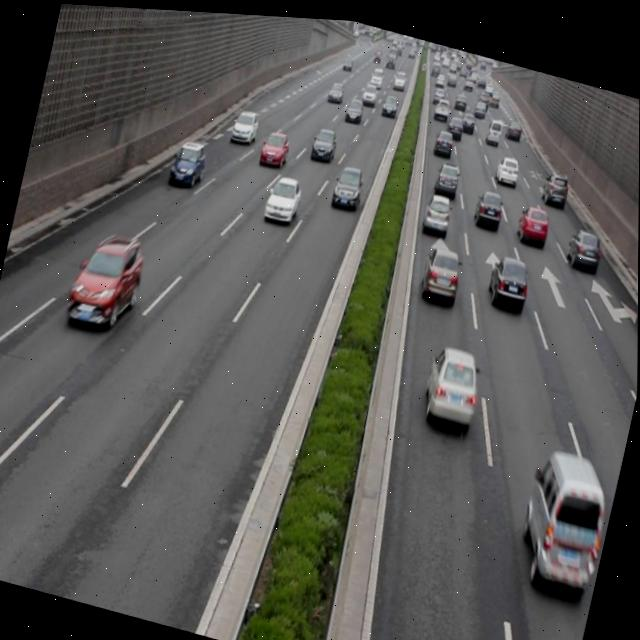car: (64, 220, 150, 339), (419, 335, 485, 424), (485, 245, 533, 305), (418, 238, 464, 300), (167, 132, 209, 190), (262, 168, 303, 224), (563, 217, 602, 266), (329, 157, 365, 209), (514, 196, 552, 242), (257, 121, 292, 169), (471, 180, 505, 227), (420, 184, 454, 231), (538, 160, 570, 201), (229, 102, 260, 144), (432, 152, 461, 194), (309, 119, 338, 160), (493, 146, 520, 179)
truck: (513, 437, 613, 583)
